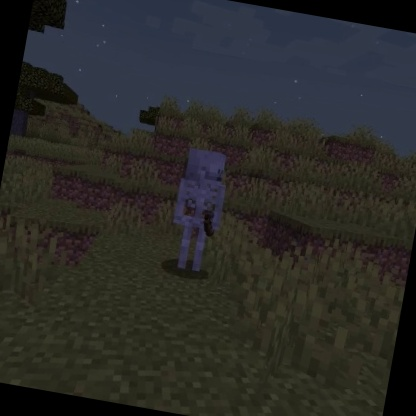skeleton: (160, 142, 239, 279)
